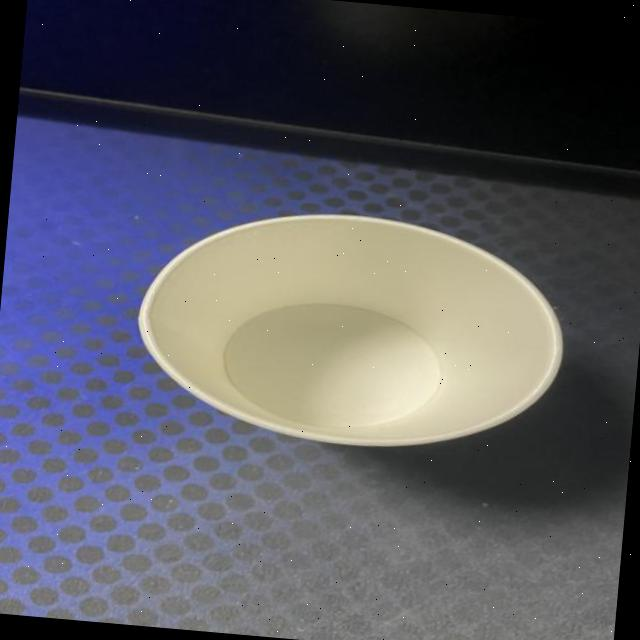trash: (123, 193, 578, 466)
